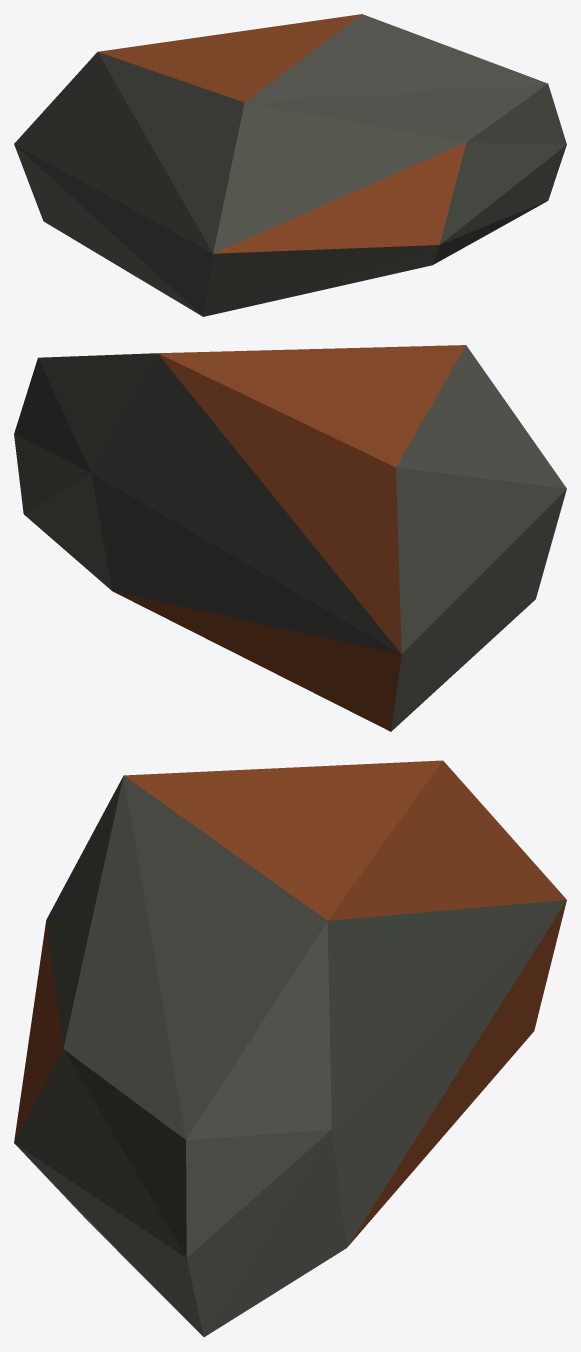
The model's file is ore_copper_v01_lod2.glb.
3 renders of one model, top to bottom at view 1: azimuth 30°, elevation 25°; view 2: azimuth 150°, elevation 25°; view 3: azimuth 270°, elevation 25°, orthographic. The views are drawn at different scales.
Visible parts, largest first — view 1: ore_copper_v01_lod2; view 2: ore_copper_v01_lod2; view 3: ore_copper_v01_lod2.
Boxes of the visible parts, x1,y1,x2,y2 form: ore_copper_v01_lod2: (14,14,566,316); ore_copper_v01_lod2: (14,345,566,731); ore_copper_v01_lod2: (14,760,566,1336).
Size of the model in its own units: 2.36 by 1.03 by 1.67.
